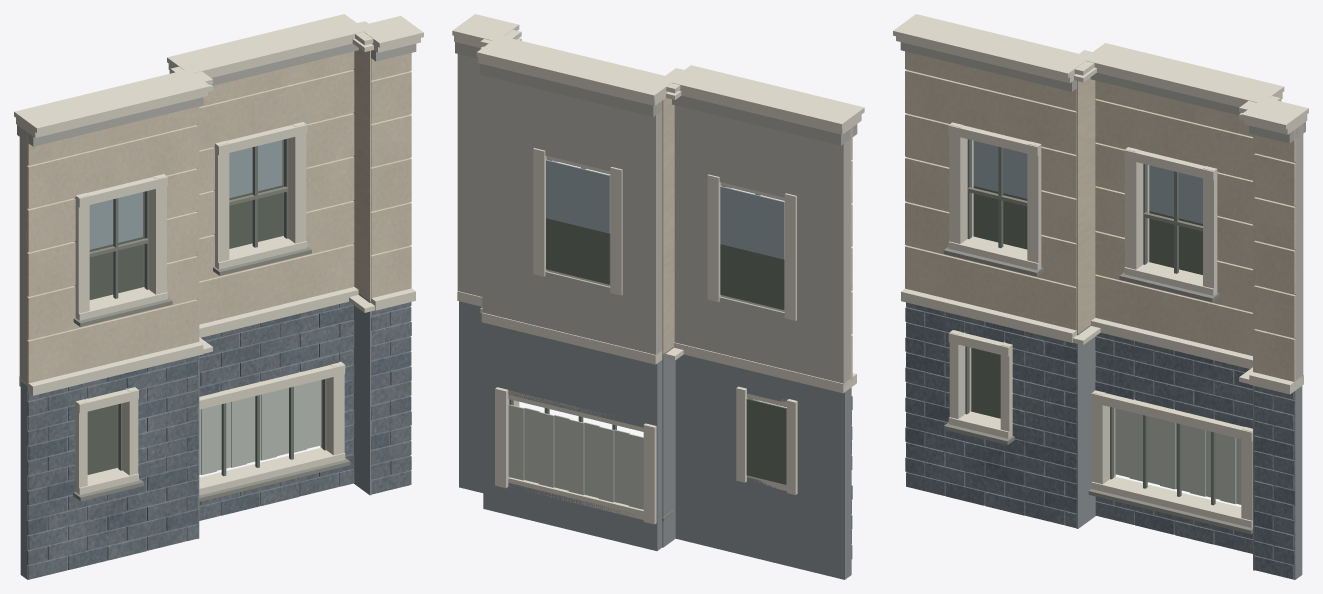
File: dance-court-window-bay-far.glb
3 views of the same model, side by side, from view 1: azimuth 30°, elevation 25°; view 2: azimuth 150°, elevation 25°; view 3: azimuth 330°, elevation 25° (orthographic).
Parts seen in each view (by area): view 1: 虹桥路舞蹈院团花园住宅群院内错台窗间与灰石基; view 2: 虹桥路舞蹈院团花园住宅群院内错台窗间与灰石基; view 3: 虹桥路舞蹈院团花园住宅群院内错台窗间与灰石基.
Part boxes in pixels (x1,y1,x2,y2): 虹桥路舞蹈院团花园住宅群院内错台窗间与灰石基: (14, 14, 423, 579); 虹桥路舞蹈院团花园住宅群院内错台窗间与灰石基: (452, 14, 864, 579); 虹桥路舞蹈院团花园住宅群院内错台窗间与灰石基: (893, 14, 1308, 579).
Size of the model in its own units: 4.22 by 4.78 by 0.76.
14 materials, 4 textured.
